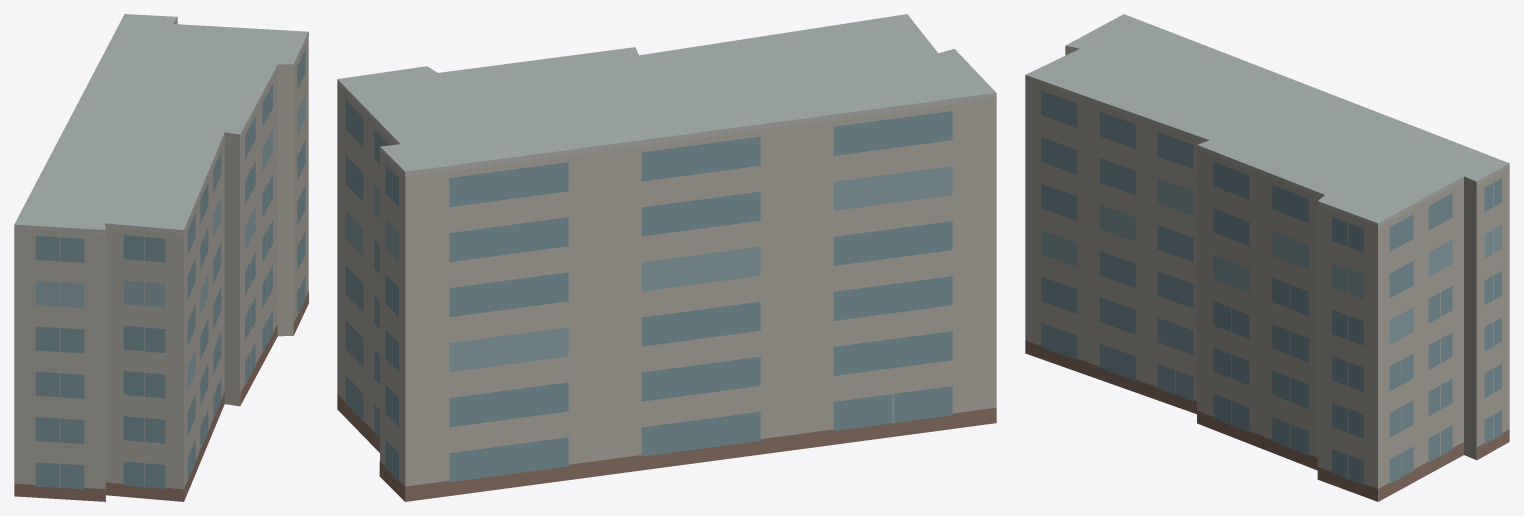
The model's file is survey-upis-32501056.glb.
The picture shows the model from 3 angles, left to right: view 1: azimuth 30°, elevation 25°; view 2: azimuth 150°, elevation 25°; view 3: azimuth 270°, elevation 25°; orthographic projection. The views are drawn at different scales.
Visible parts, largest first — view 1: survey-upis-32501056.tmp; view 2: survey-upis-32501056.tmp; view 3: survey-upis-32501056.tmp.
Boxes of the visible parts, x1,y1,x2,y2 form: survey-upis-32501056.tmp: (14, 14, 308, 501); survey-upis-32501056.tmp: (337, 14, 996, 501); survey-upis-32501056.tmp: (1025, 14, 1509, 501).
Bounding box in the file's own units: 25.8 × 16 × 25.23.
